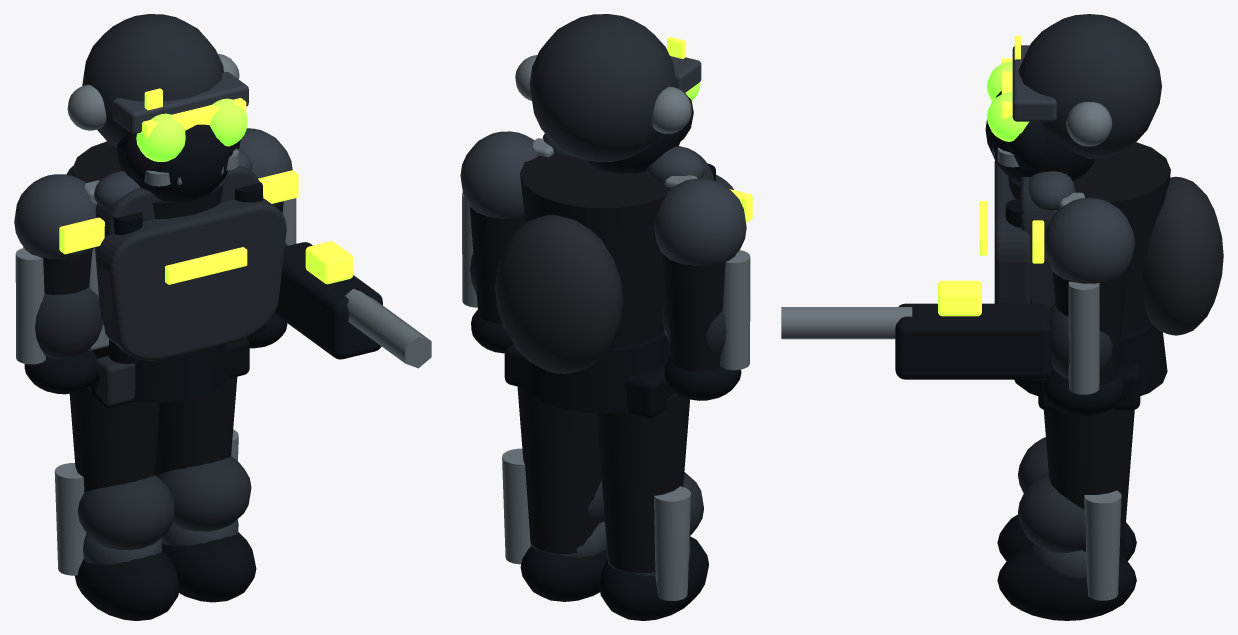
The model's file is sentinel_l01.glb.
The picture shows the model from 3 angles, left to right: view 1: azimuth 30°, elevation 25°; view 2: azimuth 150°, elevation 25°; view 3: azimuth 270°, elevation 25°; orthographic projection. The views are drawn at different scales.
Parts seen in each view (by area): view 1: contoured_tactical_plate, trouser (×2), shaped_knee_guard (×2), rounded_helmet, rounded_boot (×2), shoulder_joint (×2), heavy_carbine, enclosed_mask, waist_flex, curved_forearm_guard, forearm_seam (×2), heavy_barrel (+20 smaller); view 2: trouser (×2), rounded_helmet, shaped_field_pack, body, shoulder_joint (×2), sleeve (×2), rounded_boot (×2), shin_frame (×2), waist_flex, forearm_seam (×2), glove (×2), belt (+7 smaller); view 3: rounded_helmet, heavy_carbine, shaped_field_pack, trouser, body, rounded_boot (×2), shoulder_joint, shaped_knee_guard (×2), heavy_barrel, contoured_tactical_plate, shin_frame, forearm_seam (+14 smaller).
Part boxes in pixels (box(x1,y1,x2,y2)): contoured_tactical_plate: box(96, 198, 286, 360); trouser (×2): box(69, 376, 237, 534); shaped_knee_guard (×2): box(77, 456, 251, 550); rounded_helmet: box(82, 14, 223, 147); rounded_boot (×2): box(75, 532, 256, 620); shoulder_joint (×2): box(14, 128, 292, 259); heavy_carbine: box(274, 242, 382, 359); enclosed_mask: box(116, 124, 233, 201); waist_flex: box(93, 344, 228, 402); curved_forearm_guard: box(35, 287, 102, 358); forearm_seam (×2): box(15, 198, 296, 364); heavy_barrel: box(345, 289, 431, 368); trouser (×2): box(517, 386, 689, 572); rounded_helmet: box(529, 14, 676, 162); shaped_field_pack: box(495, 214, 623, 373); body: box(520, 153, 671, 348); shoulder_joint (×2): box(460, 131, 746, 266); sleeve (×2): box(469, 206, 735, 371); rounded_boot (×2): box(520, 536, 708, 620); shin_frame (×2): box(502, 448, 690, 600); waist_flex: box(526, 332, 670, 413); forearm_seam (×2): box(462, 192, 750, 370); glove (×2): box(471, 309, 741, 400); belt: box(504, 343, 674, 418); rounded_helmet: box(1018, 14, 1161, 158); heavy_carbine: box(895, 303, 1051, 379); shaped_field_pack: box(1143, 176, 1223, 335); trouser: box(1043, 408, 1134, 561); body: box(1008, 142, 1170, 337); rounded_boot (×2): box(997, 514, 1136, 620); shoulder_joint: box(1044, 198, 1135, 283); shaped_knee_guard (×2): box(1018, 437, 1085, 552); heavy_barrel: box(781, 307, 912, 339); contoured_tactical_plate: box(994, 160, 1030, 303); shin_frame: box(1084, 490, 1121, 600); forearm_seam: box(1068, 281, 1099, 394).
Size of the model in its own units: 0.9406 by 1.87 by 1.3.
